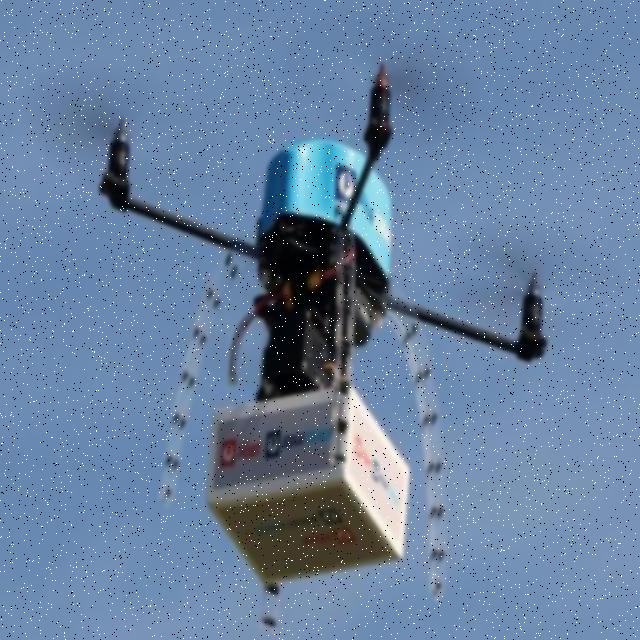UAV: (94, 53, 550, 635)
